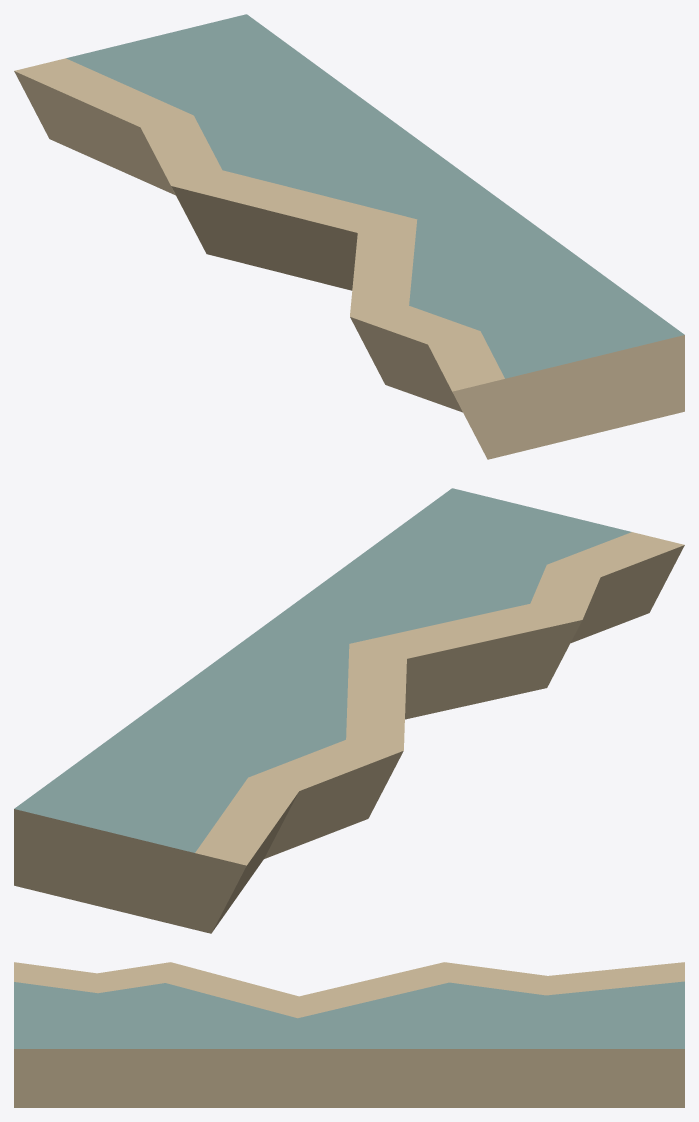
Rendered from naturePack_127.gltf.
3 renders of one model, top to bottom at view 1: azimuth 30°, elevation 25°; view 2: azimuth 150°, elevation 25°; view 3: azimuth 270°, elevation 25°, orthographic. The views are drawn at different scales.
Parts seen in each view (by area): view 1: Mesh1 Brown_Cliff_Top Model; view 2: Mesh1 Brown_Cliff_Top Model; view 3: Mesh1 Brown_Cliff_Top Model.
Part boxes in pixels (bbox=[...]): Mesh1 Brown_Cliff_Top Model: bbox=[14, 14, 684, 459]; Mesh1 Brown_Cliff_Top Model: bbox=[14, 488, 684, 933]; Mesh1 Brown_Cliff_Top Model: bbox=[14, 962, 684, 1107].
Bounding box in the file's own units: 0.92 × 0.29 × 3.
